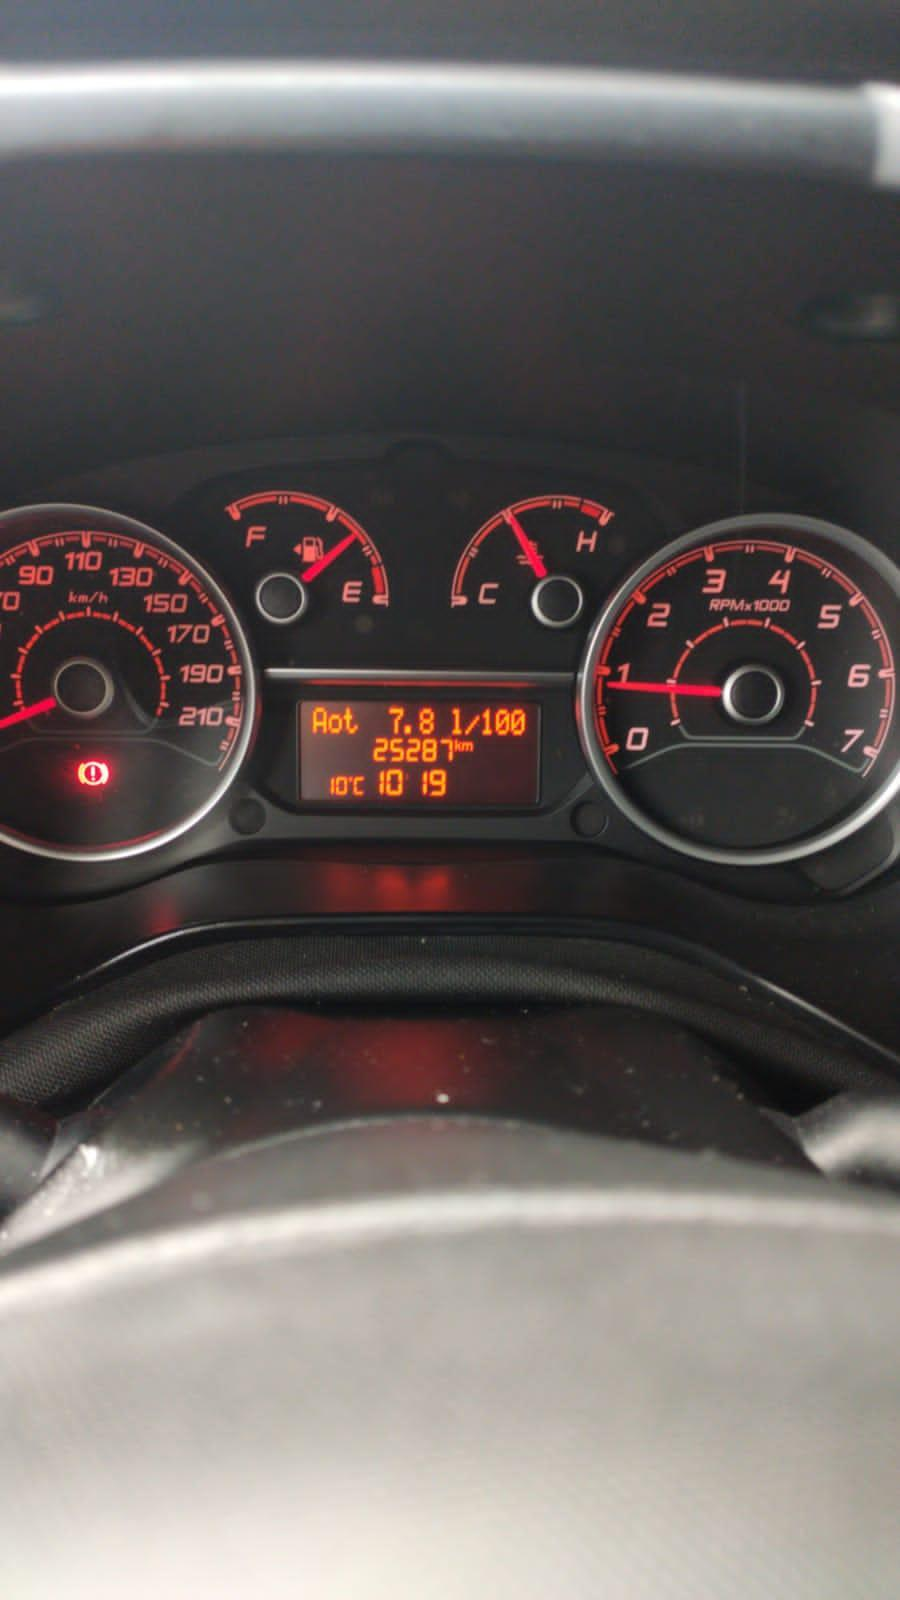,: (403, 723, 413, 736)
0: (386, 767, 404, 797), (510, 708, 527, 737), (495, 707, 510, 737), (334, 775, 348, 796)
1: (481, 705, 493, 737), (376, 769, 385, 796), (421, 769, 429, 797), (329, 776, 334, 796)
2: (373, 737, 388, 762), (405, 737, 420, 763)
5: (388, 738, 404, 763)
7: (386, 705, 404, 736), (438, 737, 454, 762)
8: (416, 707, 435, 735), (421, 737, 438, 762)
9: (427, 768, 448, 798)
X: (311, 705, 327, 735), (343, 705, 359, 735), (449, 705, 463, 735), (464, 714, 480, 737), (351, 774, 366, 797), (327, 712, 343, 735), (453, 737, 475, 753)
odometer: (293, 696, 545, 807)
